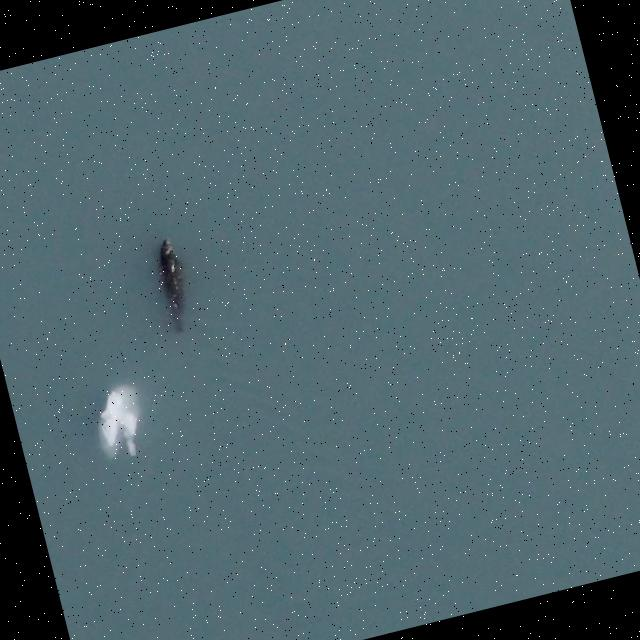seal: (150, 236, 196, 334)
